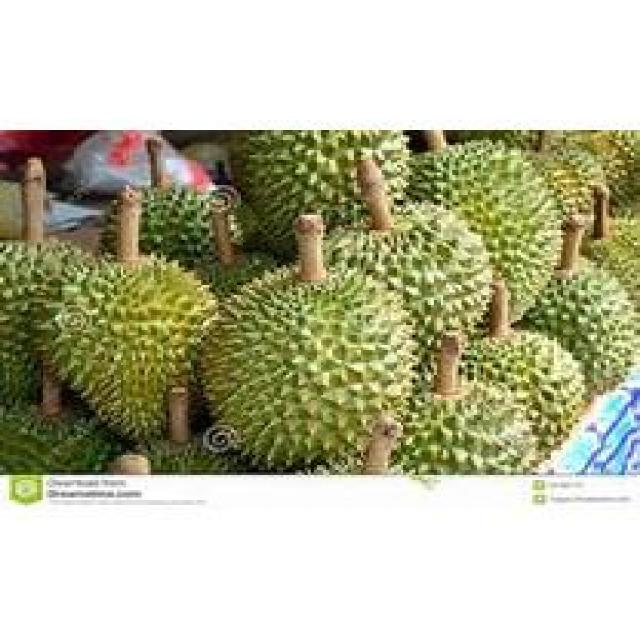fruit: (37, 220, 228, 460)
